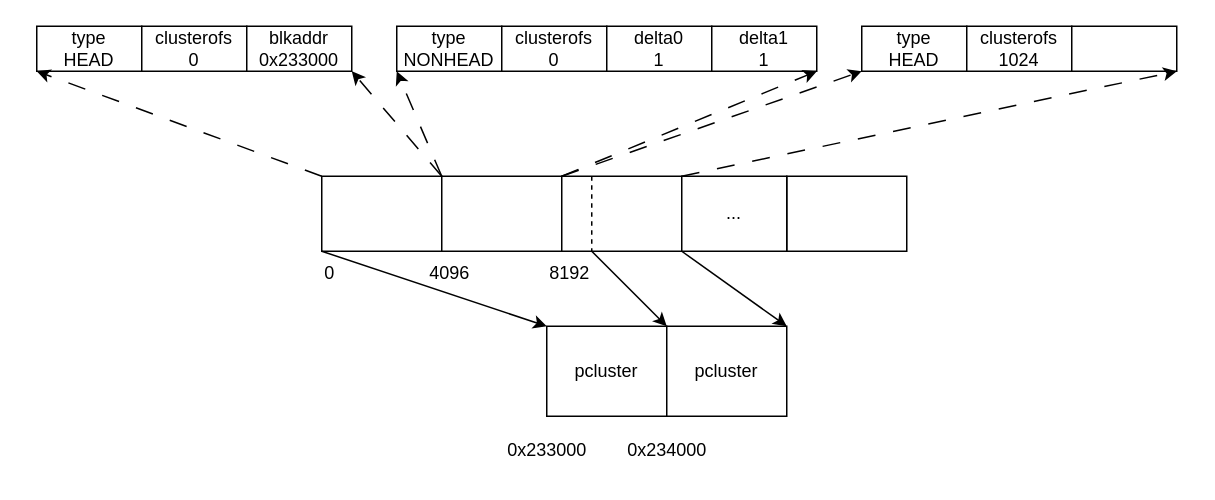
Some shapes in this 1215 by 500 pixel diagram are drawn without their labels. Here are the shapes that lost their labels. From the top down, the centre of each, then its label:
At [1123,48]: "blkaddr 0x234000".
At [381,213]: "lcluster 0".
At [501,213]: "lcluster 1".
At [621,213]: "lcluster 2".
At [846,213]: "lcluster n".
